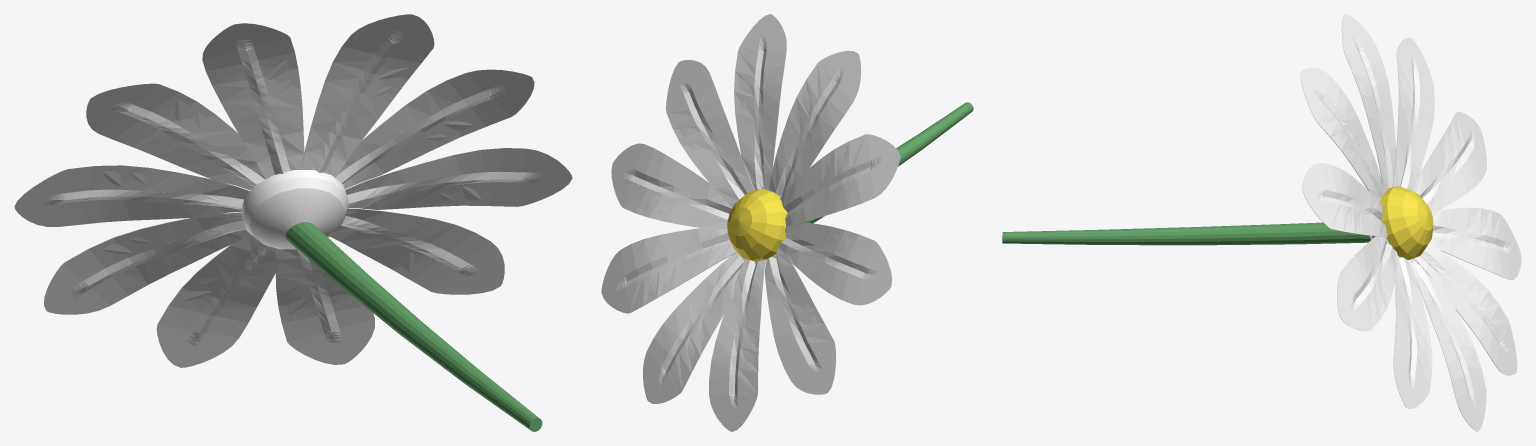
The model's file is phool Flower.fbx.
The picture shows the model from 3 angles, left to right: view 1: azimuth 30°, elevation 25°; view 2: azimuth 150°, elevation 25°; view 3: azimuth 270°, elevation 25°; orthographic projection. The views are drawn at different scales.
Visible parts, largest first — view 1: imagetostl_mesh2, imagetostl_mesh1, imagetostl_mesh3, imagetostl_mesh11, imagetostl_mesh10, imagetostl_mesh8, imagetostl_mesh0, imagetostl_mesh7, imagetostl_mesh5, imagetostl_mesh6, imagetostl_mesh12, imagetostl_mesh4; view 2: imagetostl_mesh0, imagetostl_mesh1, imagetostl_mesh7, imagetostl_mesh8, imagetostl_mesh6, imagetostl_mesh5, imagetostl_mesh2, imagetostl_mesh10, imagetostl_mesh11, imagetostl_mesh3, imagetostl_mesh9, imagetostl_mesh12; view 3: imagetostl_mesh12, imagetostl_mesh5, imagetostl_mesh6, imagetostl_mesh11, imagetostl_mesh10, imagetostl_mesh3, imagetostl_mesh7, imagetostl_mesh2, imagetostl_mesh1, imagetostl_mesh8, imagetostl_mesh0, imagetostl_mesh9.
Part boxes in pixels (bbox=[...]): imagetostl_mesh2: bbox=[202, 23, 304, 179]; imagetostl_mesh1: bbox=[301, 14, 434, 177]; imagetostl_mesh3: bbox=[14, 165, 250, 226]; imagetostl_mesh11: bbox=[86, 83, 265, 190]; imagetostl_mesh10: bbox=[44, 212, 251, 314]; imagetostl_mesh8: bbox=[345, 147, 572, 214]; imagetostl_mesh0: bbox=[335, 69, 534, 188]; imagetostl_mesh7: bbox=[330, 208, 504, 294]; imagetostl_mesh5: bbox=[156, 235, 283, 367]; imagetostl_mesh6: bbox=[275, 249, 374, 364]; imagetostl_mesh12: bbox=[285, 222, 542, 431]; imagetostl_mesh4: bbox=[241, 170, 348, 249]; imagetostl_mesh0: bbox=[666, 60, 754, 207]; imagetostl_mesh1: bbox=[734, 14, 786, 190]; imagetostl_mesh7: bbox=[601, 228, 736, 313]; imagetostl_mesh8: bbox=[611, 143, 731, 230]; imagetostl_mesh6: bbox=[643, 252, 744, 403]; imagetostl_mesh5: bbox=[709, 258, 766, 431]; imagetostl_mesh2: bbox=[769, 50, 861, 195]; imagetostl_mesh10: bbox=[765, 248, 836, 394]; imagetostl_mesh11: bbox=[780, 134, 900, 226]; imagetostl_mesh3: bbox=[779, 221, 892, 305]; imagetostl_mesh9: bbox=[727, 189, 787, 262]; imagetostl_mesh12: bbox=[803, 102, 973, 223]; imagetostl_mesh12: bbox=[1002, 222, 1370, 245]; imagetostl_mesh5: bbox=[1414, 243, 1517, 375]; imagetostl_mesh6: bbox=[1408, 260, 1486, 431]; imagetostl_mesh11: bbox=[1392, 37, 1434, 191]; imagetostl_mesh10: bbox=[1429, 207, 1521, 279]; imagetostl_mesh3: bbox=[1413, 111, 1486, 211]; imagetostl_mesh7: bbox=[1393, 249, 1432, 408]; imagetostl_mesh2: bbox=[1341, 14, 1396, 192]; imagetostl_mesh1: bbox=[1300, 68, 1383, 204]; imagetostl_mesh8: bbox=[1337, 236, 1397, 331]; imagetostl_mesh0: bbox=[1302, 163, 1387, 236]; imagetostl_mesh9: bbox=[1380, 186, 1433, 259].
Bounding box in the file's own units: 14424 × 13353 × 18190.
